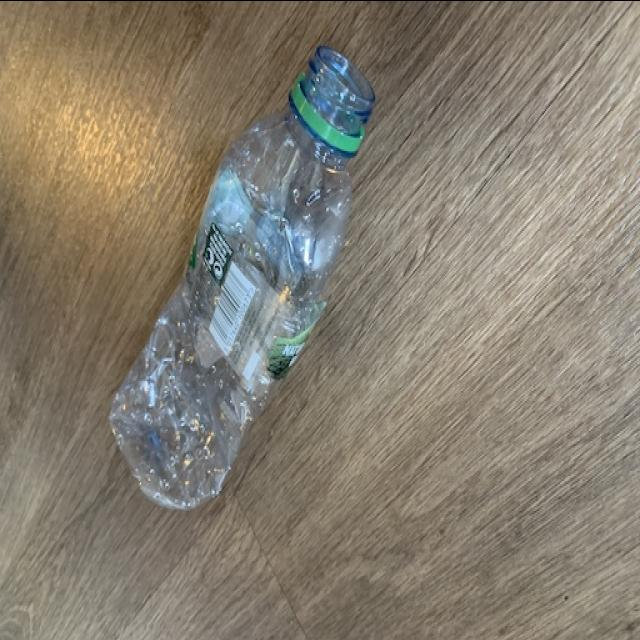litter: (105, 41, 383, 512)
